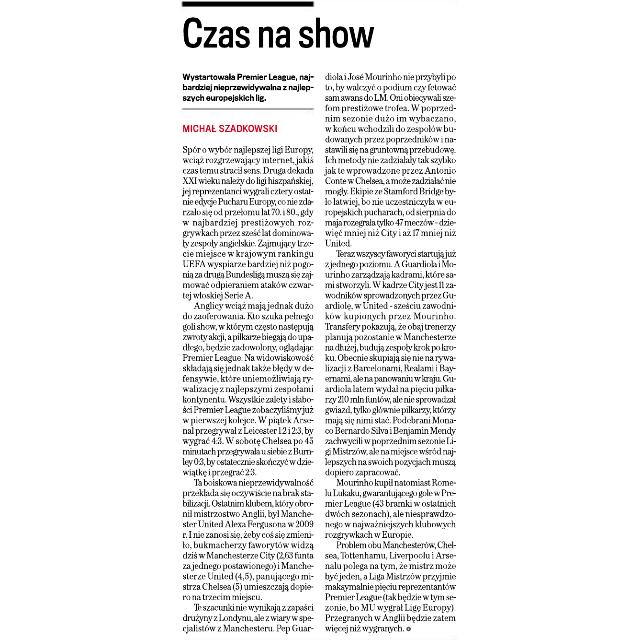author: (181, 122, 281, 136)
body: (322, 68, 460, 636), (180, 143, 318, 635)
lead: (180, 68, 318, 106)
title: (182, 12, 380, 56)
